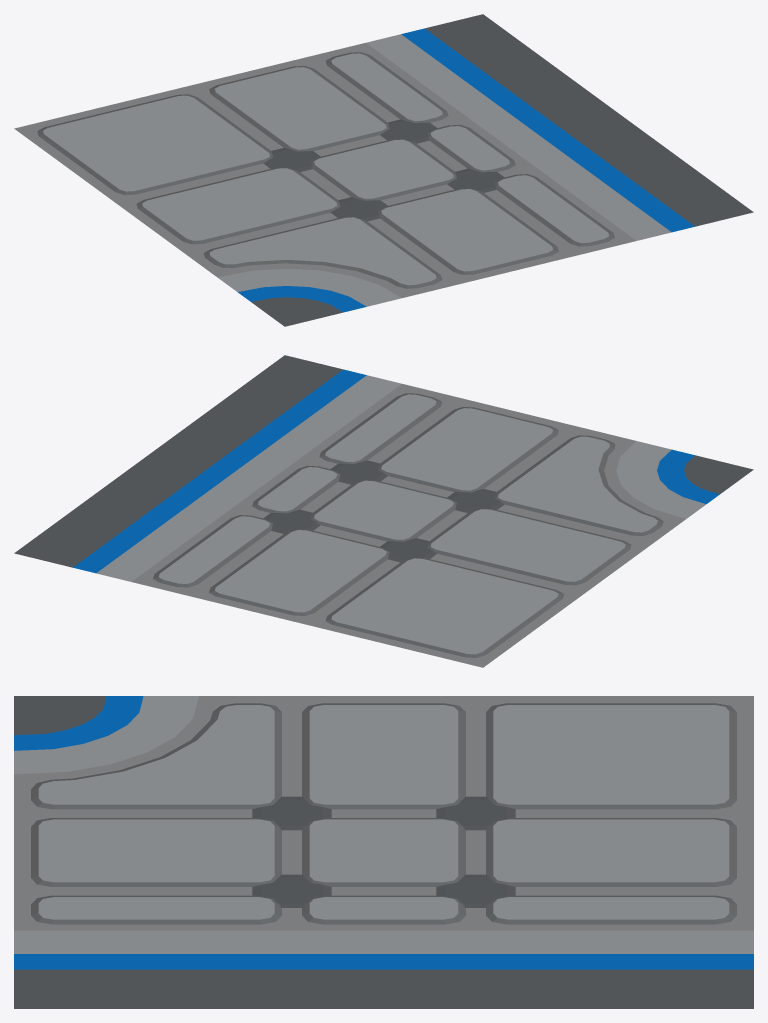
Rendered from Floor_type_B_025.fbx.
The picture shows the model from 3 angles, top to bottom: view 1: azimuth 30°, elevation 25°; view 2: azimuth 150°, elevation 25°; view 3: azimuth 270°, elevation 25°; orthographic projection. The views are drawn at different scales.
Parts seen in each view (by area): view 1: Floor_type_B_025; view 2: Floor_type_B_025; view 3: Floor_type_B_025.
Boxes of the visible parts, left/top/right/bottom form: Floor_type_B_025: left=14, top=14, right=753, bottom=326; Floor_type_B_025: left=14, top=355, right=753, bottom=667; Floor_type_B_025: left=14, top=696, right=753, bottom=1008.
Size of the model in its own units: 400 by 400 by 1.34.
